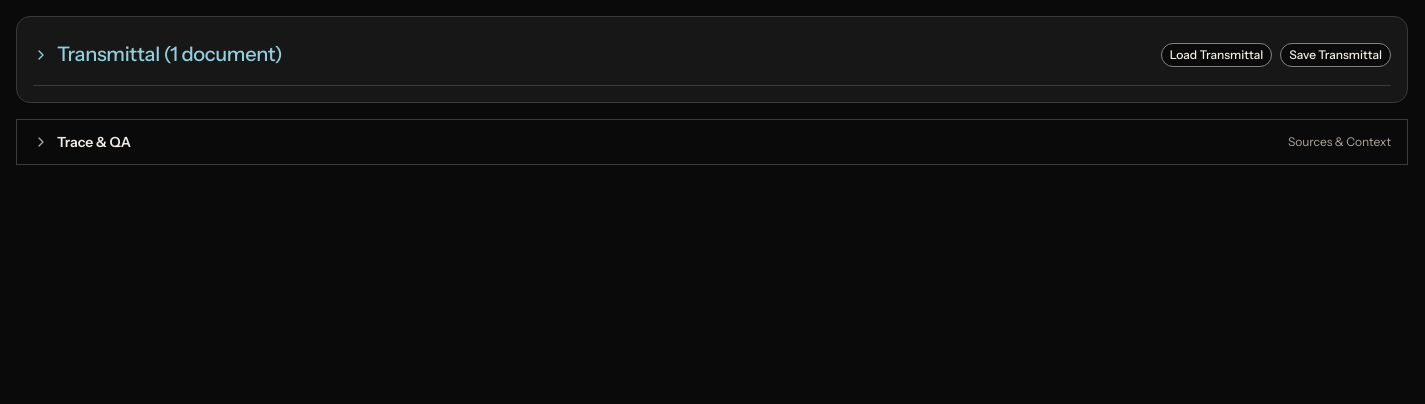
it: DraftReviewPanel › rebases a stale transmittal save onto the latest draft
The width and height of the screenshot is (1425, 404).
Step 1. Click the button "Save Transmittal" → (1336,55), box left=1280, top=43, right=1391, bottom=67
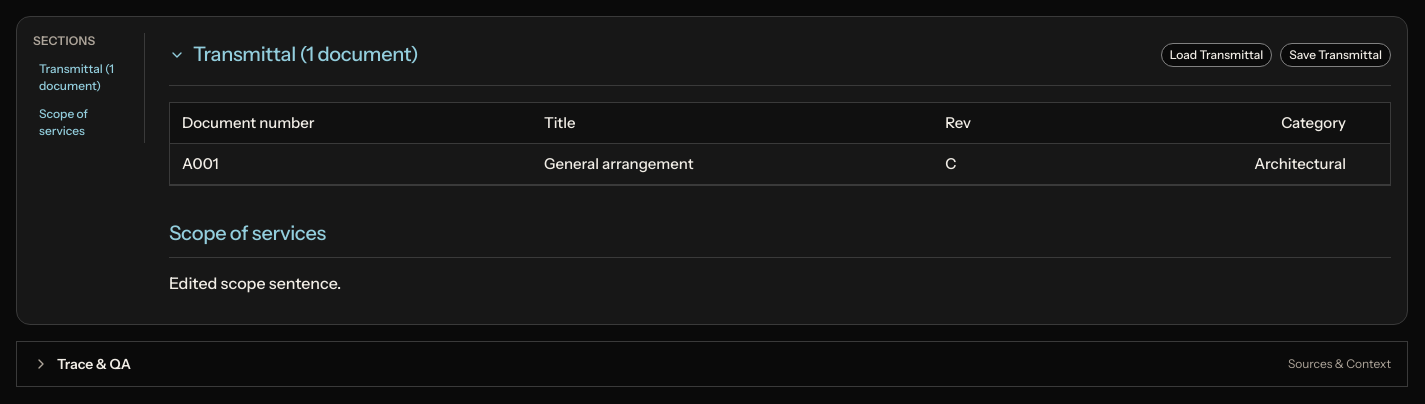
Result: the text "General arrangement" is shown at left=532, top=144, right=933, bottom=184
